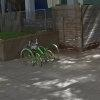Bicycle: (14, 36, 63, 71)
